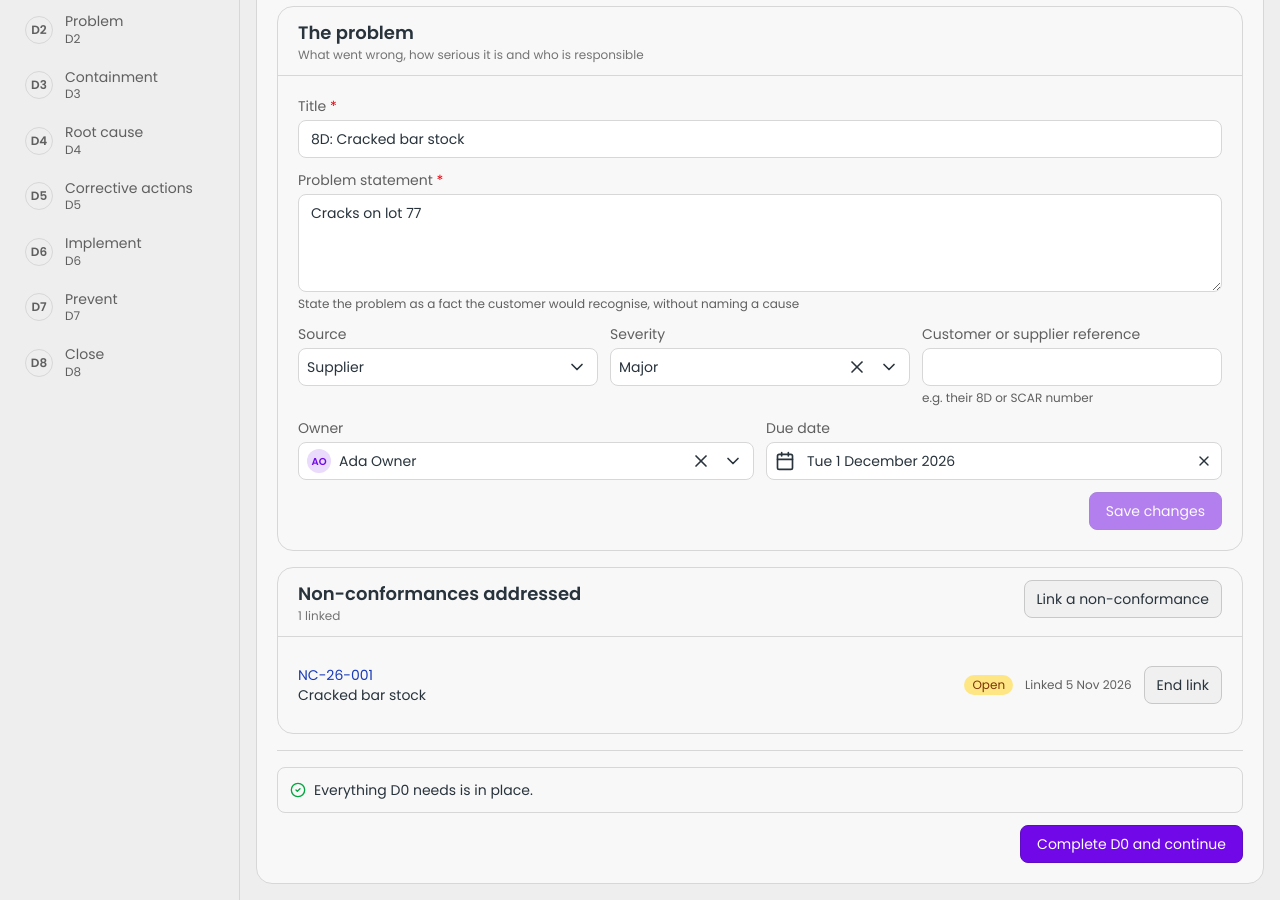
8D step page › shows what is still needed, completes the step when ready and moves to the next
The width and height of the screenshot is (1280, 900).
(page scrolled)
Check: the message named "Still needed" reads "Everything D0 needs is in place.", box [277,767,1243,813]
Click the button "Complete D0 and continue": point(1132, 844) [1020,825,1243,863]
(page scrolled)
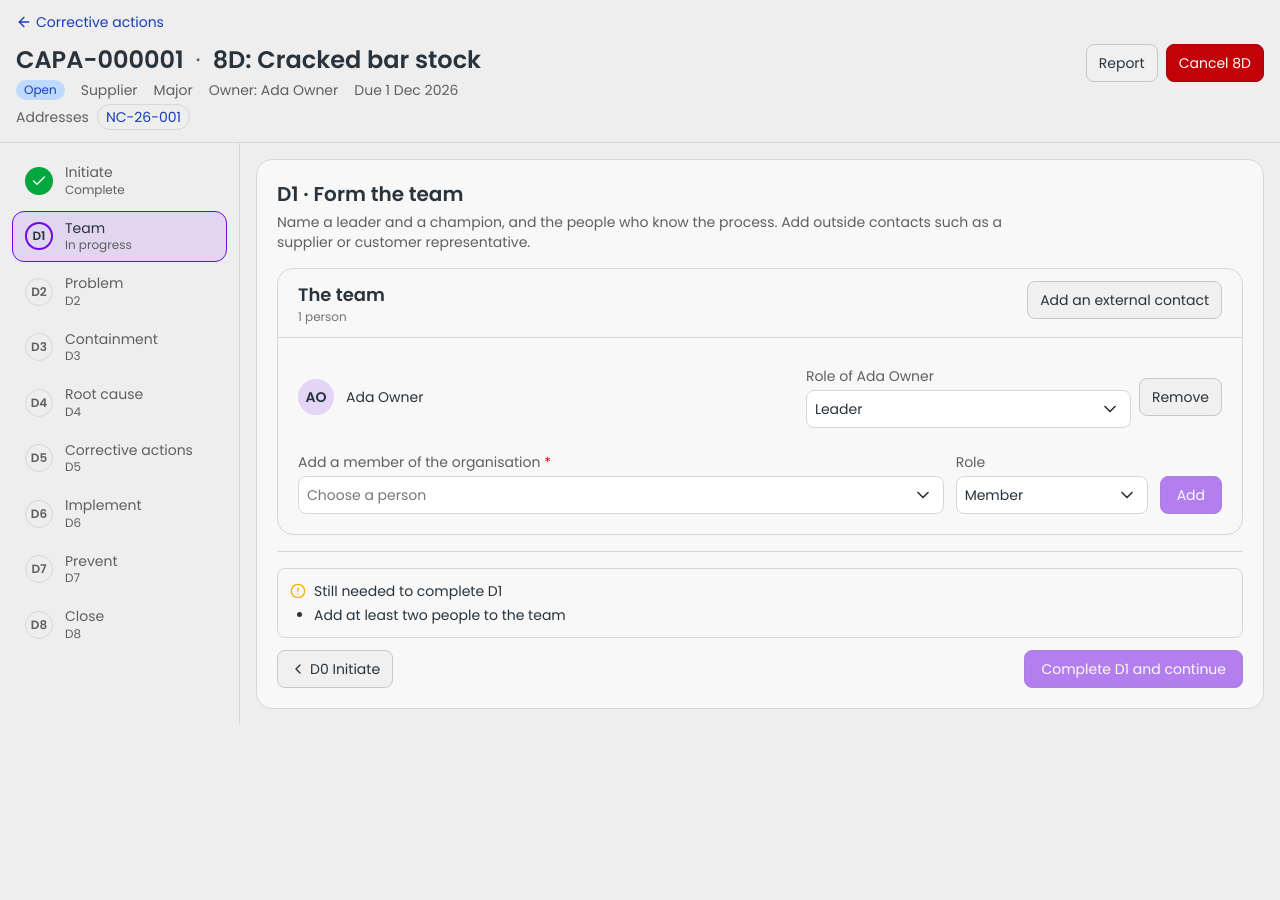
Check: the heading "D1 · Form the team" is shown, box [277,180,463,208]
